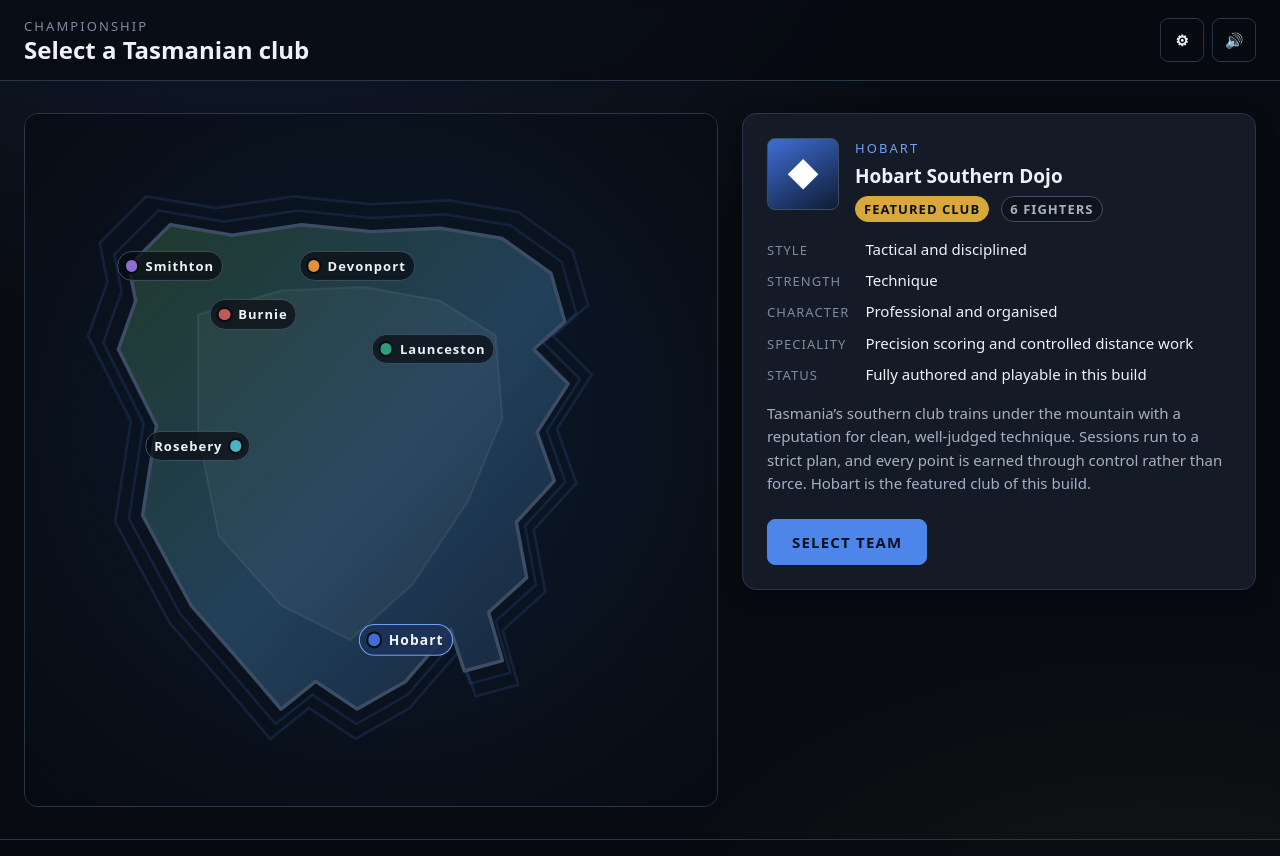
it: map screen › opens a valid team panel for every location
The width and height of the screenshot is (1280, 856).
Earlier steps of the test are not shown.
Click the button that starts with "Hobart" at (406, 640), box [358,624,453,656]
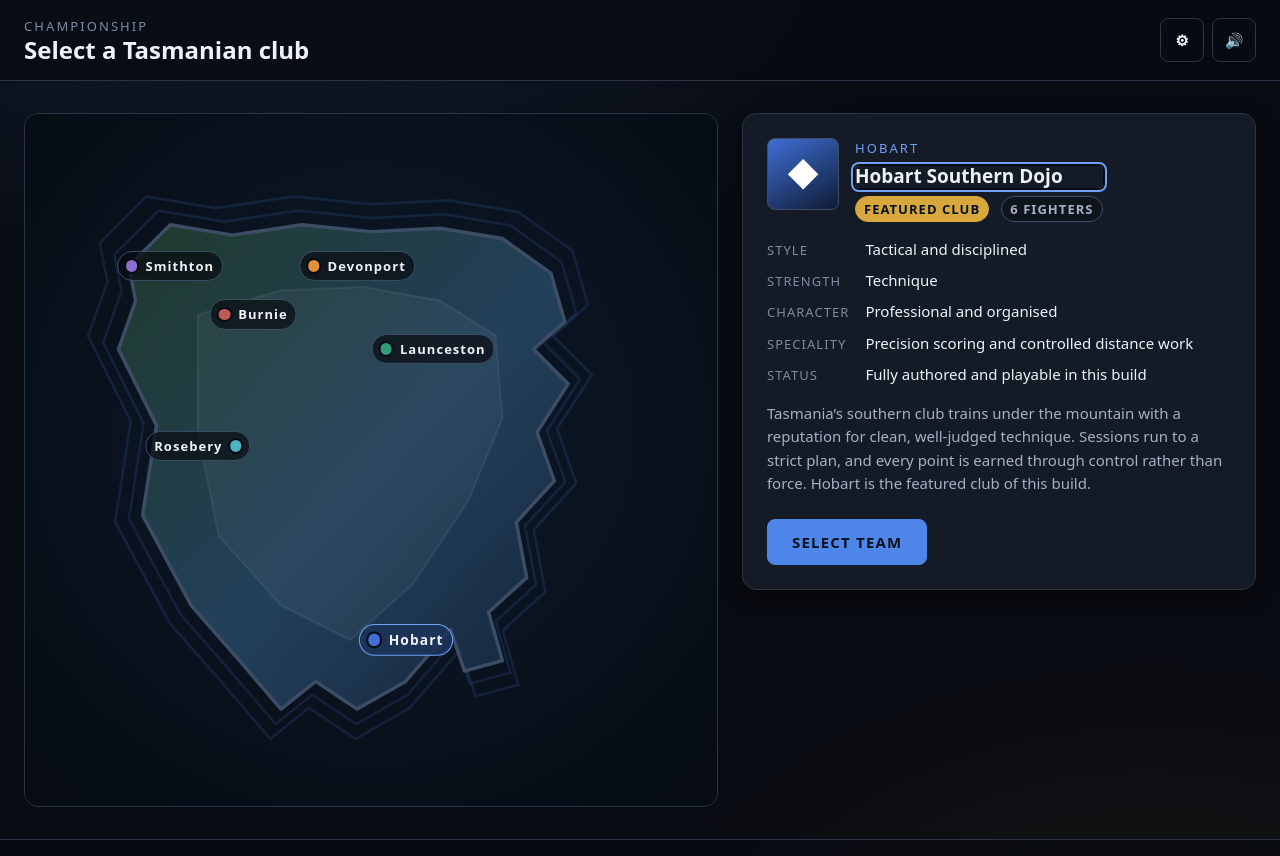
Expected: the button with test id "select-team" is shown, [767,519,928,565]
Now the heading "Hobart Southern Dojo" is shown, box [855,166,1103,188]
Click the button "Launceston" at (433, 349), box [372,334,495,364]
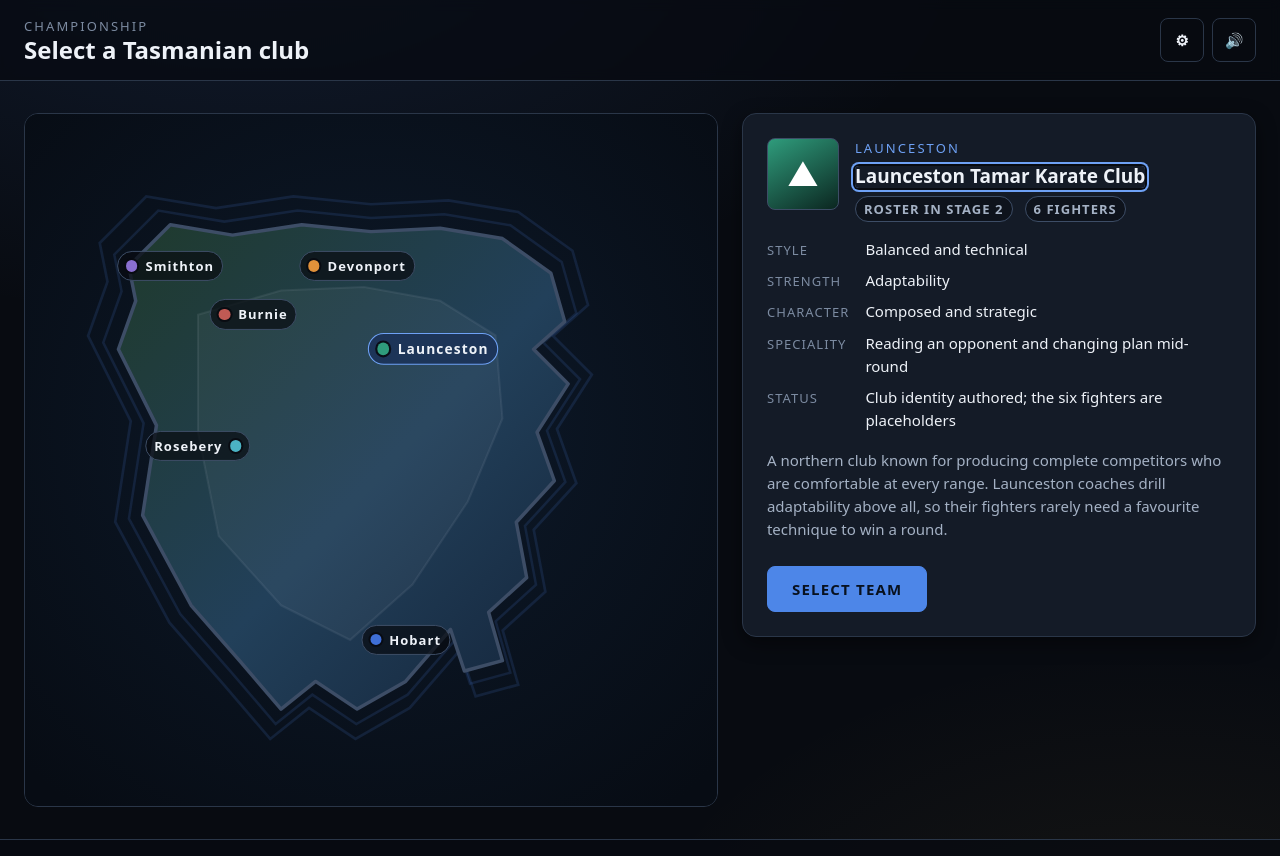
Expected: the text "Speciality" is shown, [767,335,846,353]
Now the button with test id "select-team" is shown, box [767,566,928,612]
Now the heading "Launceston Tamar Karate Club" is shown, box [855,166,1145,188]
Click the button "Devonport" at (357, 266), box [299,251,415,281]
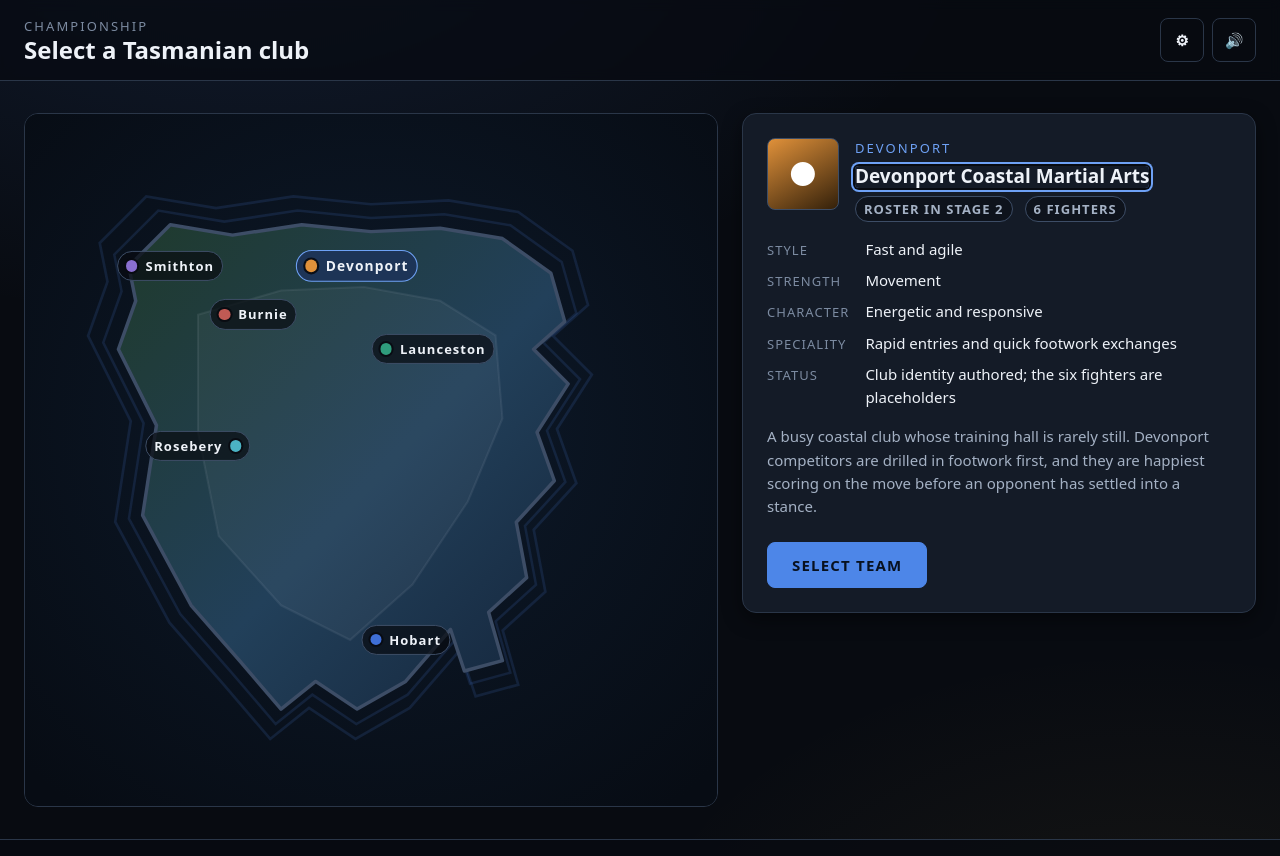
Expected: the text "Speciality" is shown, [767,332,849,355]
Now the button with test id "select-team" is shown, box [767,542,928,588]
Now the heading "Devonport Coastal Martial Arts" is shown, box [855,166,1150,188]
Click the button "Burnie" at (253, 314), box [210,299,297,329]
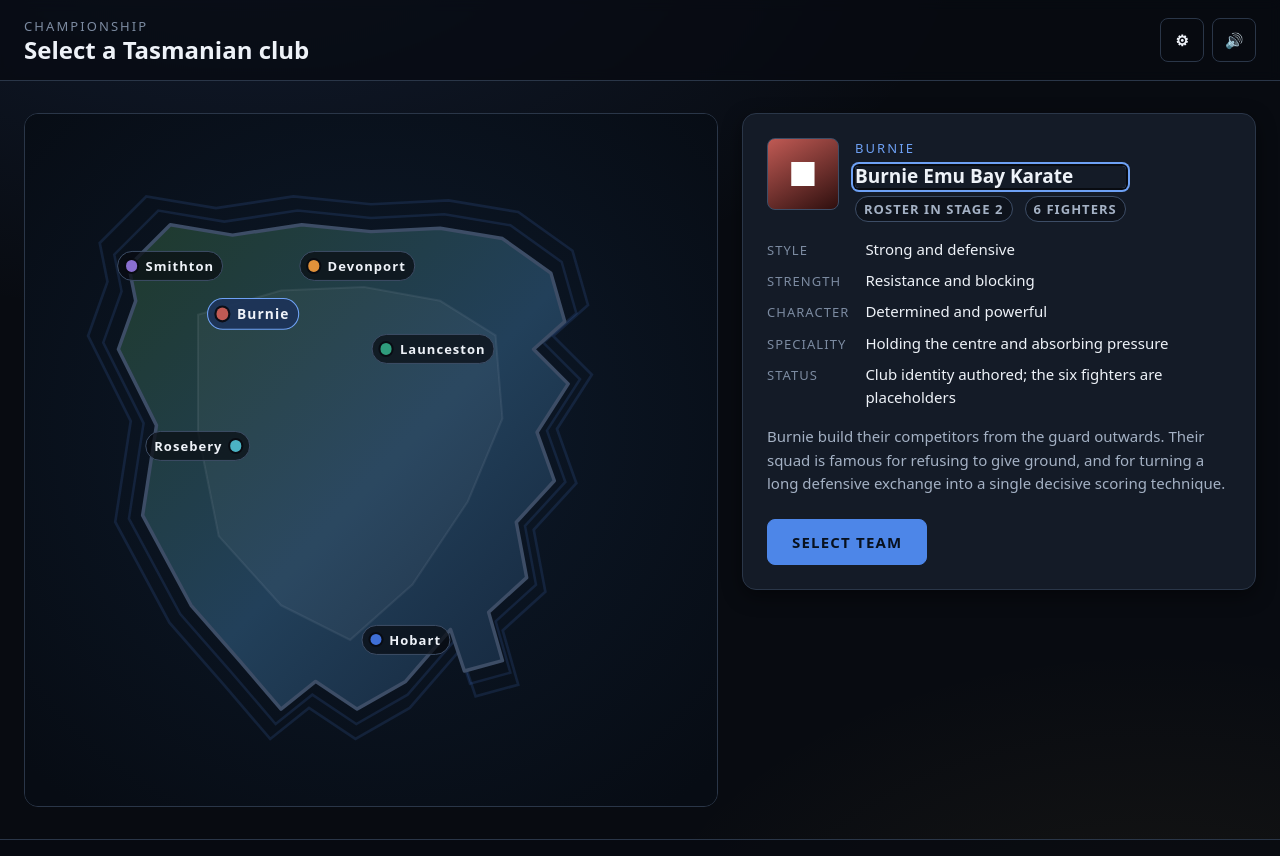
Expected: the text "Speciality" is shown, [767,332,849,355]
Now the button with test id "select-team" is shown, box [767,519,928,565]
Now the heading "Burnie Emu Bay Karate" is shown, box [855,166,1126,188]
Click the button with test id "map-marker-smithton" at (170, 266), box [117,251,223,281]
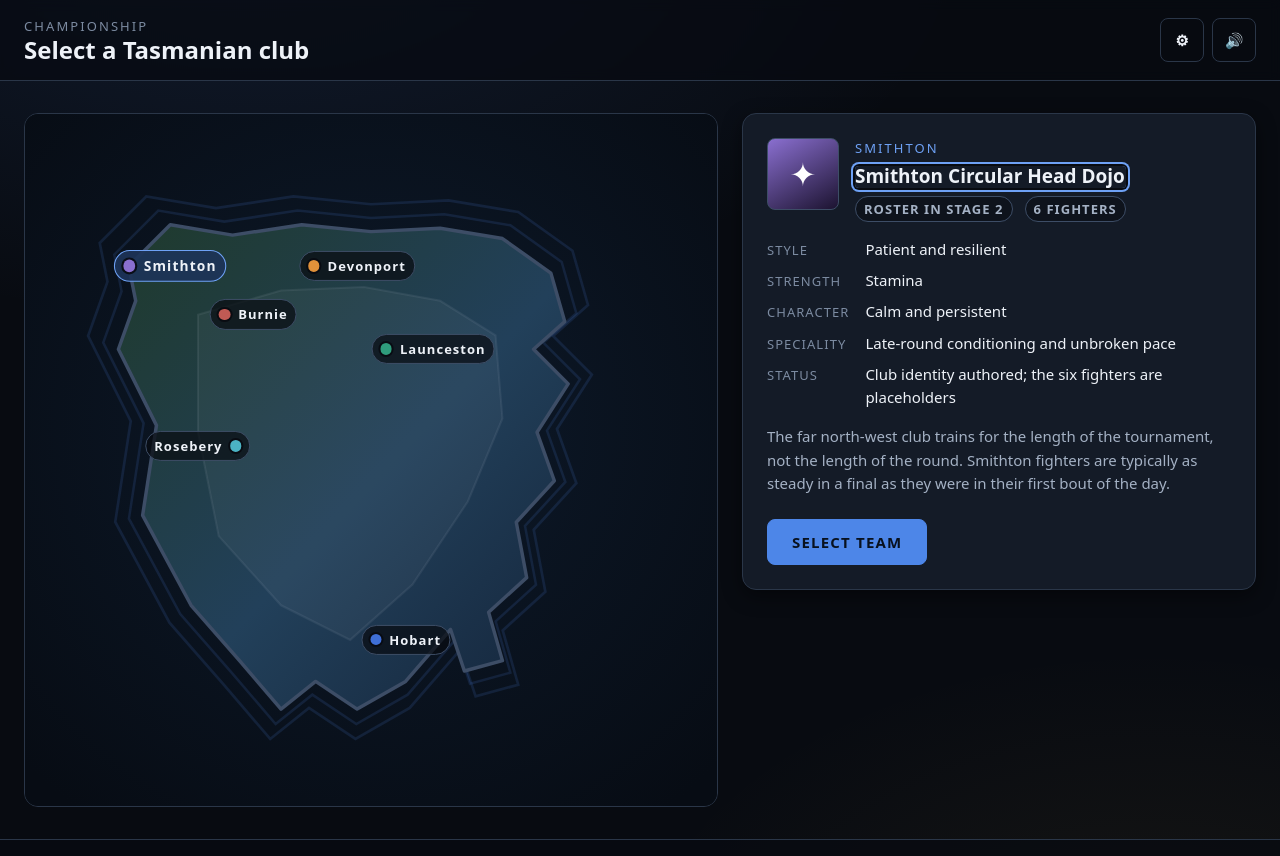
Expected: the text "Speciality" is shown, [767,332,849,355]
Now the button with test id "select-team" is shown, box [767,519,928,565]
Now the heading "Smithton Circular Head Dojo" is shown, box [855,166,1126,188]
Click the button with test id "map-marker-rosebery" at (198, 446), box [145,431,251,461]
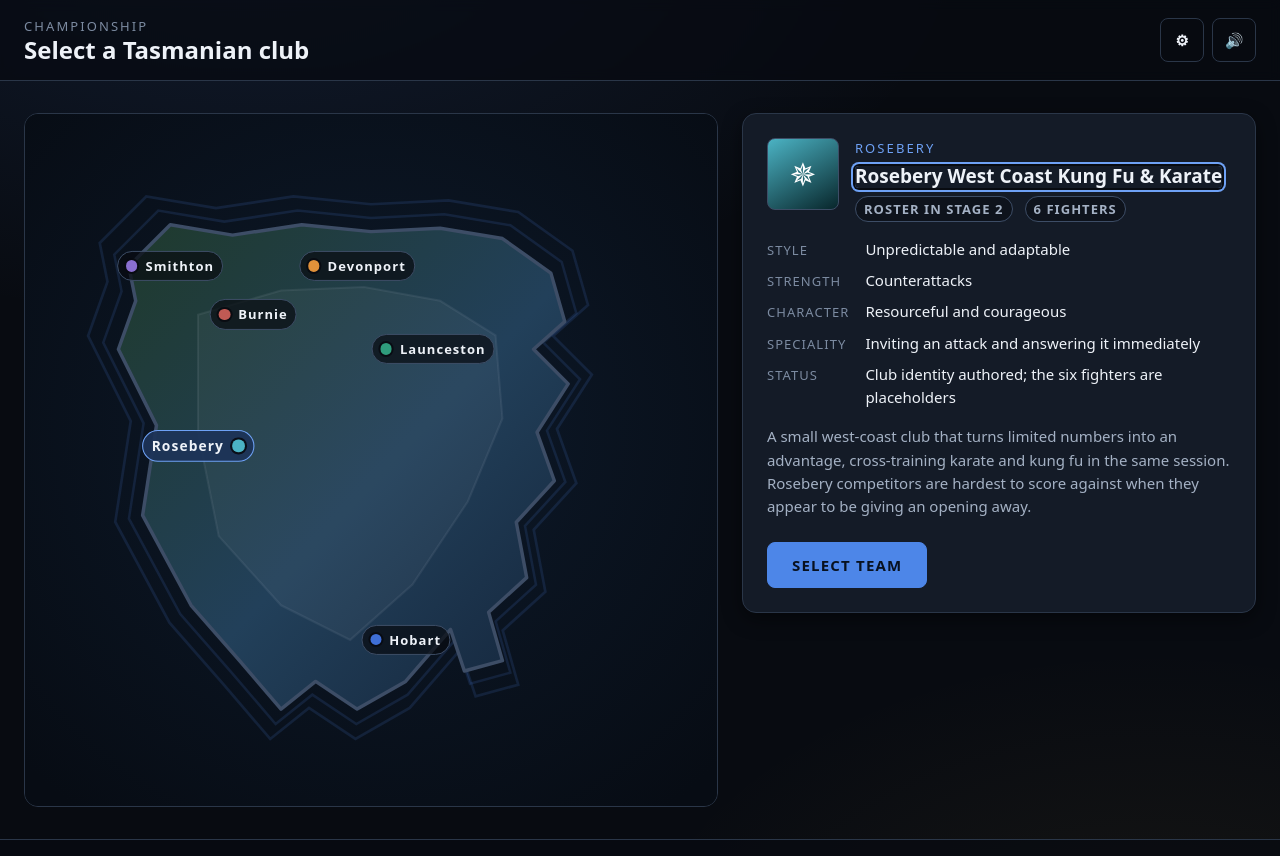
Expected: the text "Speciality" is shown, [767,332,849,355]
Now the button with test id "select-team" is shown, box [767,542,928,588]
Now the heading "Rosebery West Coast Kung Fu & Karate" is shown, box [855,166,1222,188]
